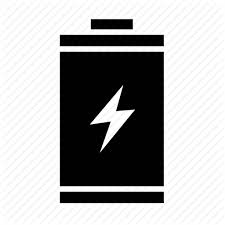charging sign: (46, 14, 183, 216)
